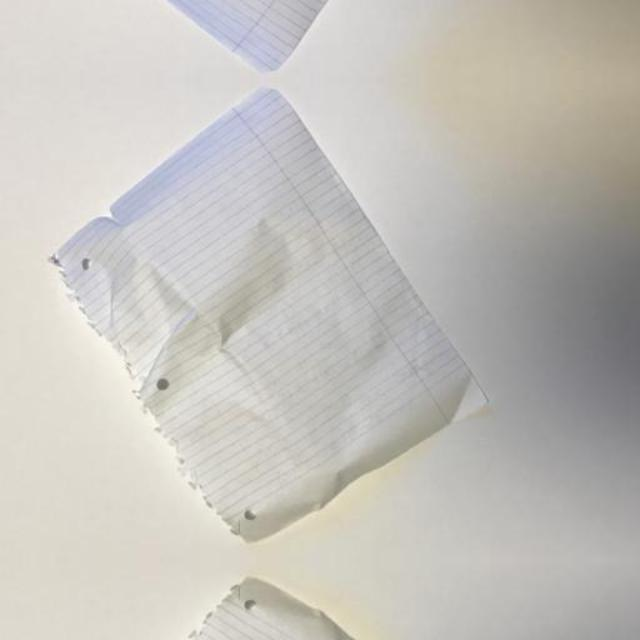paper: (55, 80, 501, 542), (55, 0, 501, 80), (55, 578, 501, 640)
